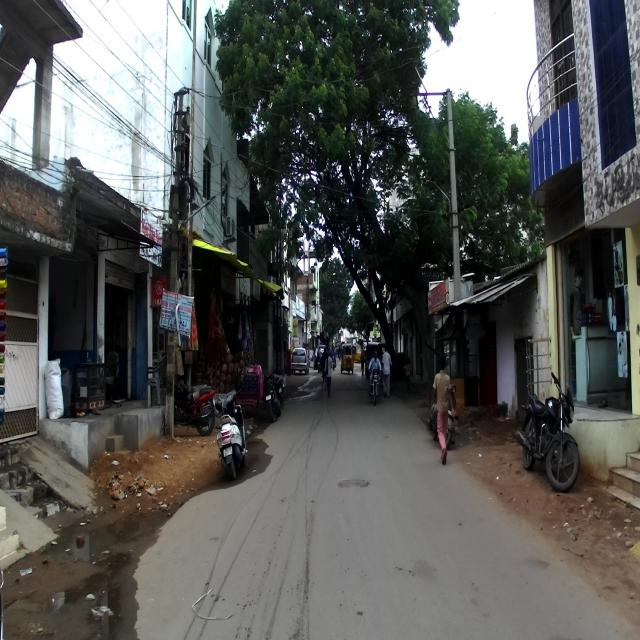motorcycle_Hero: (173, 380, 219, 438)
motorcycle_Honda: (514, 370, 579, 494)
scooter: (217, 387, 246, 482), (428, 384, 456, 450)
